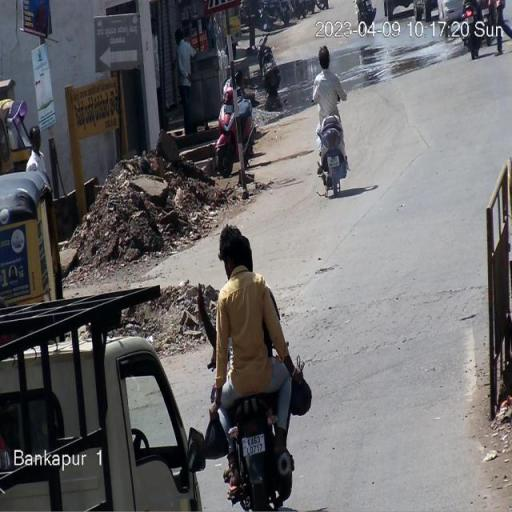tripple riding: (190, 218, 310, 405)
